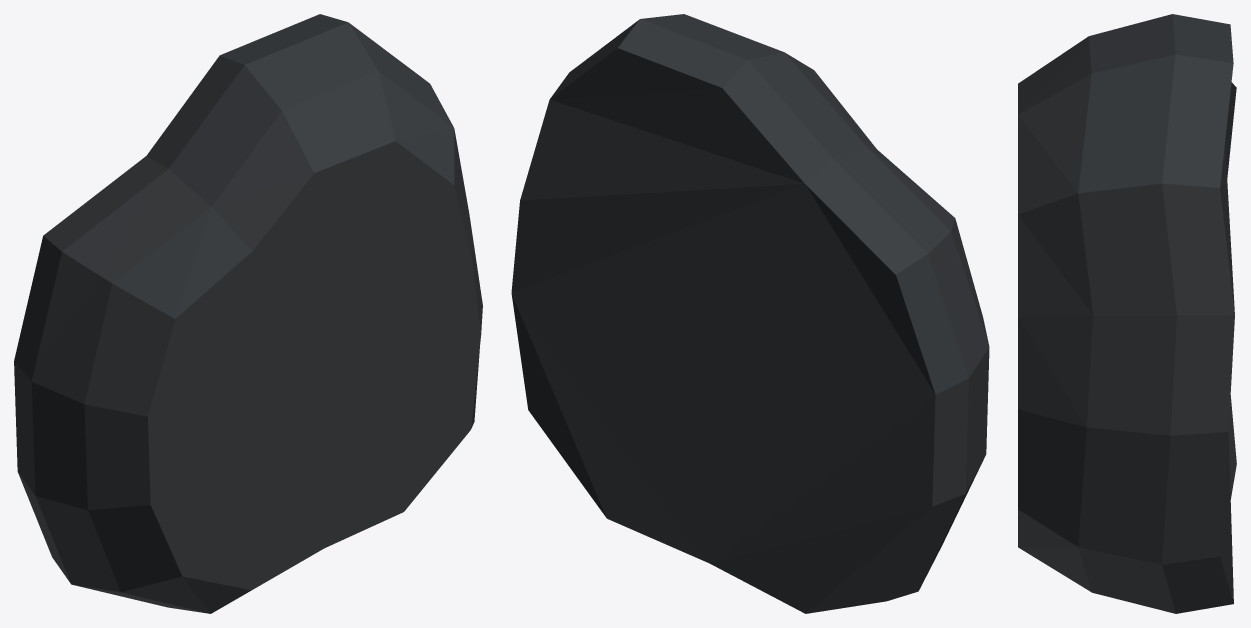
Rendered from FERNSTONE_WIND.shadow.glb.
3 renders of one model, left to right at view 1: azimuth 30°, elevation 25°; view 2: azimuth 150°, elevation 25°; view 3: azimuth 270°, elevation 25°, orthographic. The views are drawn at different scales.
Parts seen in each view (by area): view 1: Body_Mesh; view 2: Body_Mesh; view 3: Body_Mesh.
Part boxes in pixels (box(x1,y1,x2,y2)): Body_Mesh: box(14, 14, 482, 613); Body_Mesh: box(511, 14, 989, 613); Body_Mesh: box(1018, 14, 1236, 613).
Size of the model in its own units: 0.2658 by 0.3157 by 0.1018.
1 material, 1 textured.
